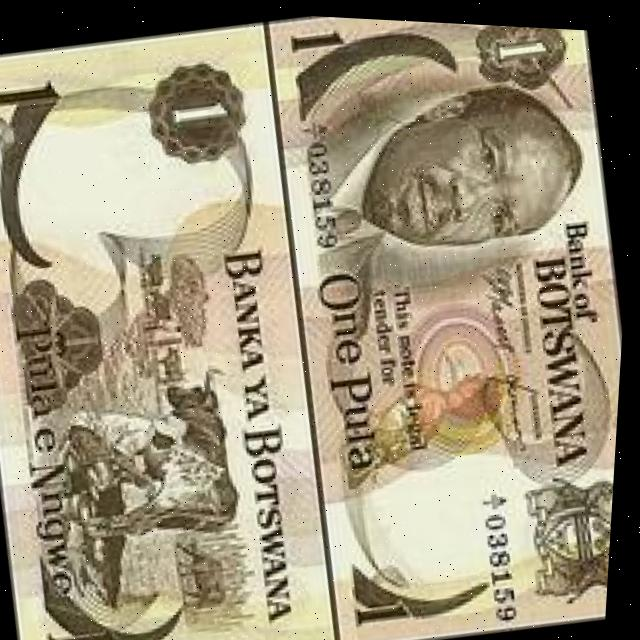banknote: (239, 11, 640, 640), (0, 12, 364, 640)
